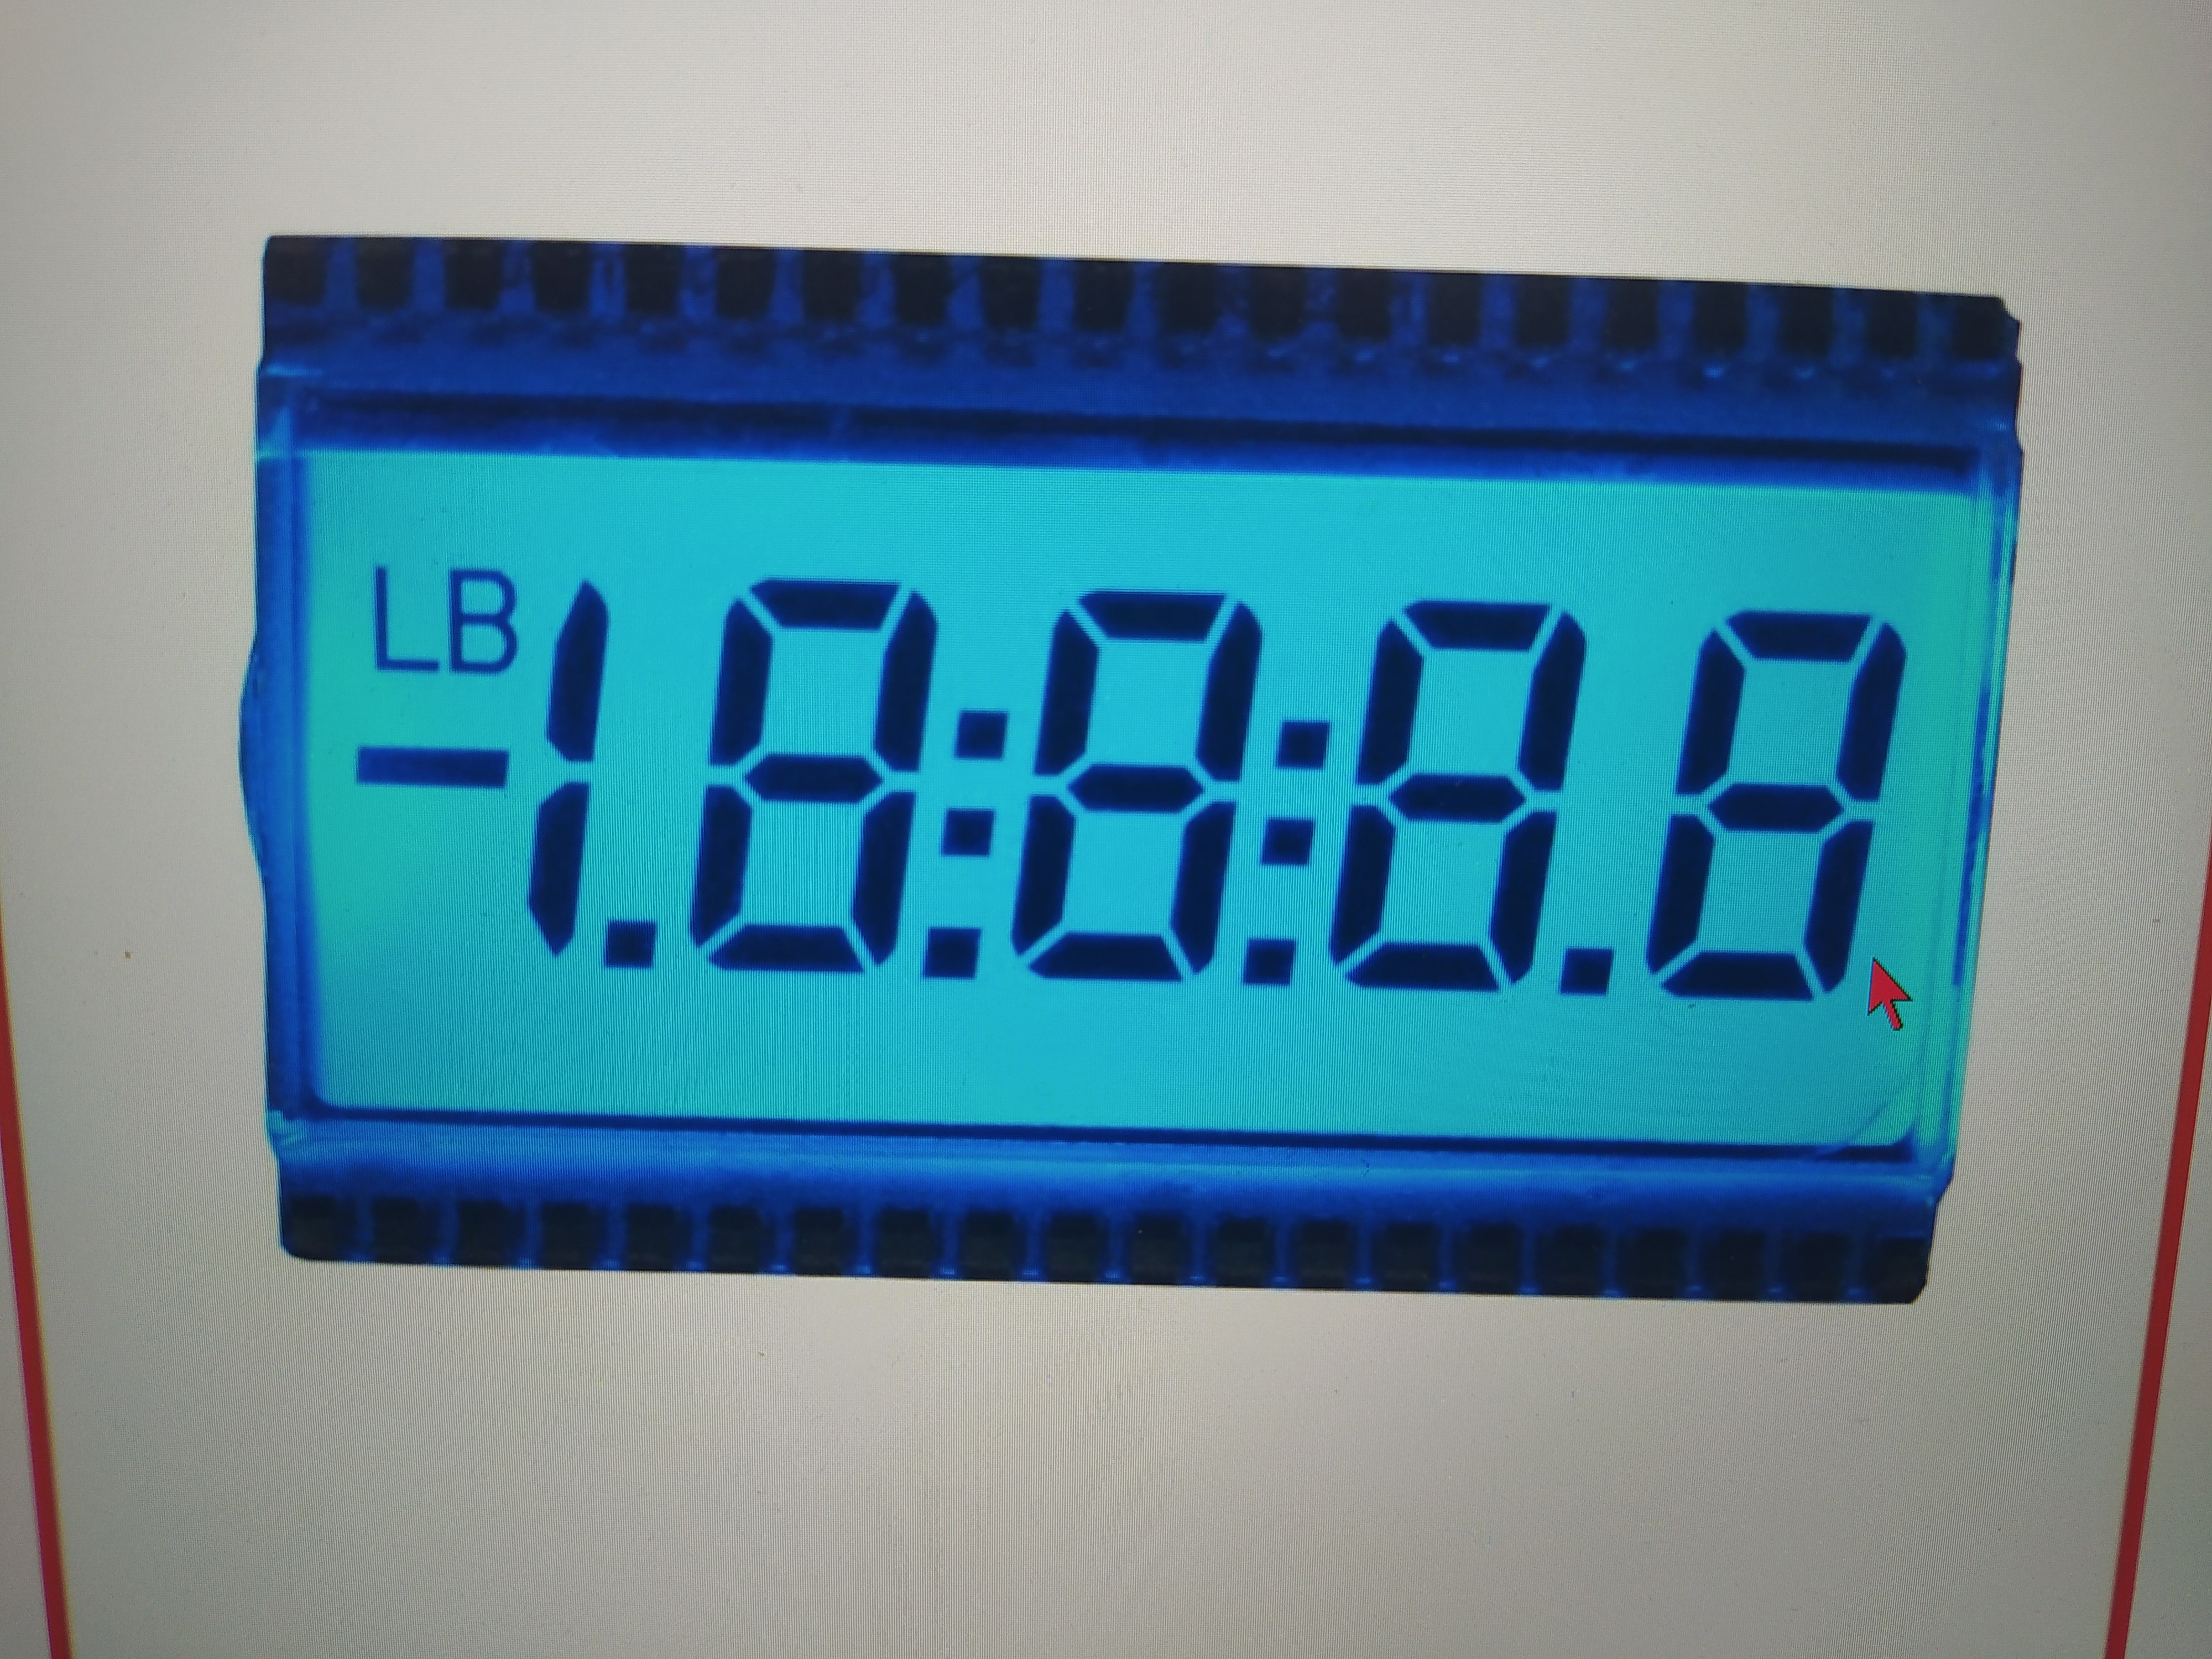.: (1550, 592, 1629, 995), (606, 582, 679, 979), (1245, 610, 1352, 784), (1231, 894, 1341, 1019), (946, 610, 1029, 758), (1240, 784, 1336, 894), (932, 770, 1012, 878), (921, 890, 1000, 992)
1: (519, 579, 613, 972)
8: (1653, 577, 1907, 1012), (1336, 575, 1590, 999), (1012, 582, 1264, 995), (686, 572, 939, 969)
